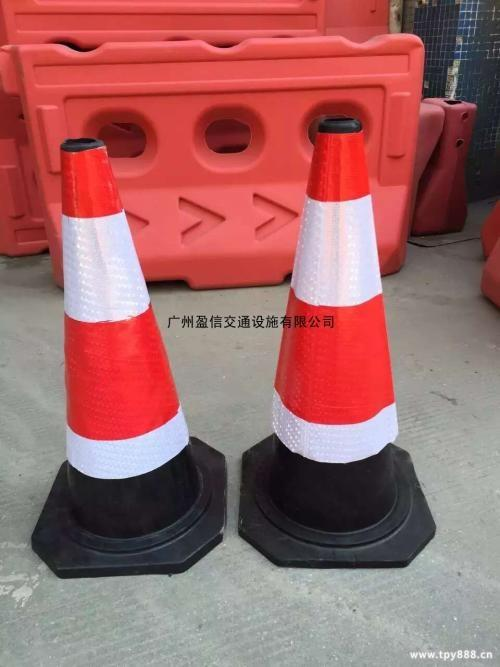cone_barrel: (254, 114, 424, 542), (36, 141, 212, 547)
